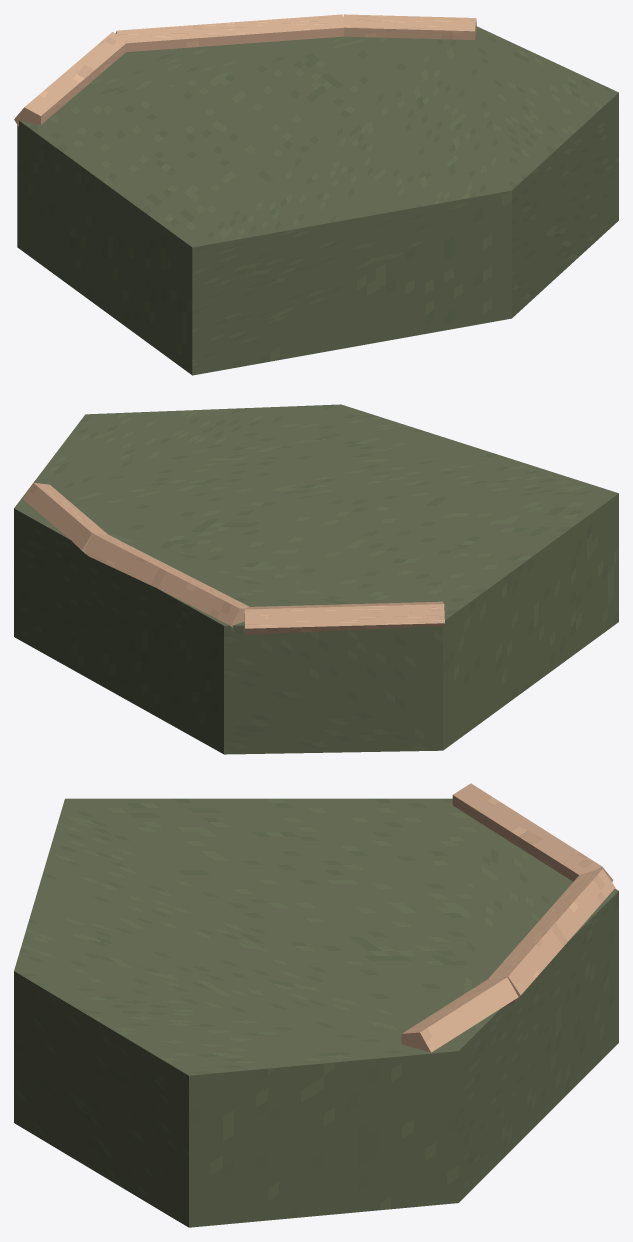
File: meat_mutant_tainted.glb
The picture shows the model from 3 angles, top to bottom: view 1: azimuth 30°, elevation 25°; view 2: azimuth 150°, elevation 25°; view 3: azimuth 270°, elevation 25°; orthographic projection. The views are drawn at different scales.
Visible parts, largest first — view 1: block_cut of meat, block_pale outer edge 1, block_pale outer edge 0, block_pale outer edge 2; view 2: block_cut of meat, block_pale outer edge 0, block_pale outer edge 1, block_pale outer edge 2; view 3: block_cut of meat, block_pale outer edge 1, block_pale outer edge 0, block_pale outer edge 2.
Boxes of the visible parts, x1,y1,x2,y2 form: block_cut of meat: (17, 26, 618, 375); block_pale outer edge 1: (116, 14, 343, 51); block_pale outer edge 0: (14, 32, 126, 126); block_pale outer edge 2: (343, 14, 476, 39); block_cut of meat: (14, 404, 618, 754); block_pale outer edge 0: (244, 601, 444, 634); block_pale outer edge 1: (84, 533, 249, 627); block_pale outer edge 2: (23, 482, 107, 554); block_cut of meat: (14, 798, 618, 1227); block_pale outer edge 1: (488, 868, 615, 1001); block_pale outer edge 0: (452, 783, 613, 882); block_pale outer edge 2: (401, 977, 518, 1052).
Size of the model in its own units: 0.114 by 0.0322 by 0.1046.
Materials: 1 (1 with a texture image).
